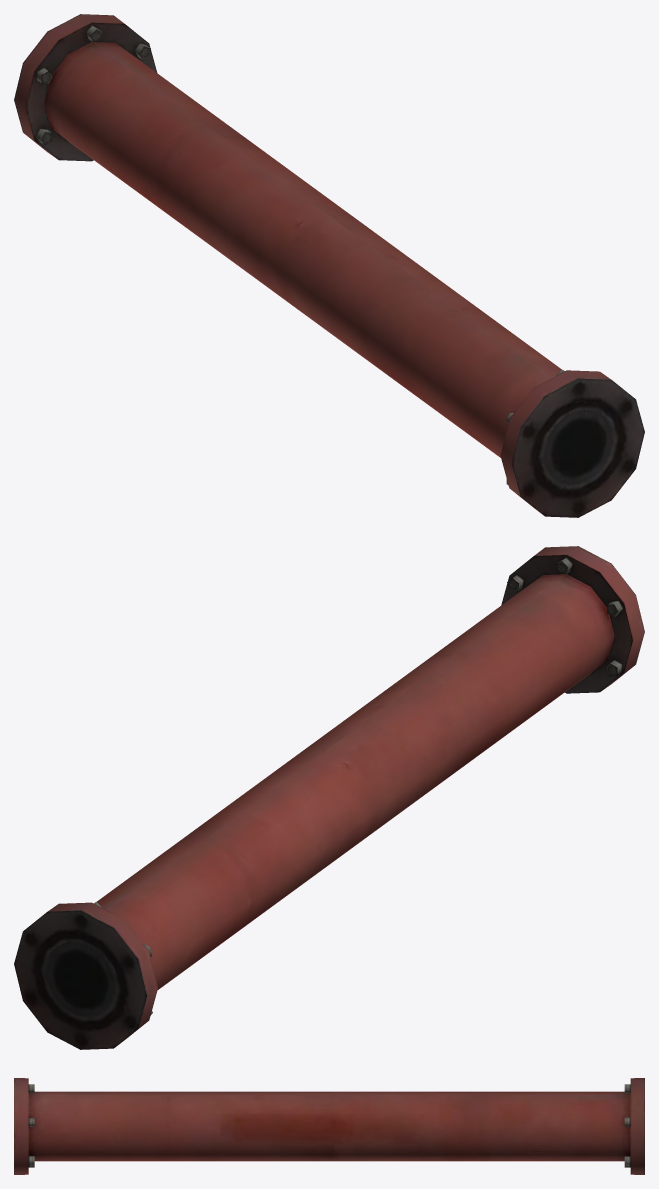
3 views of the same model, one above another, from view 1: azimuth 30°, elevation 25°; view 2: azimuth 150°, elevation 25°; view 3: azimuth 270°, elevation 25° (orthographic). The views are drawn at different scales.
Parts seen in each view (by area): view 1: body0_model0_lod0_mesh0; view 2: body0_model0_lod0_mesh0; view 3: body0_model0_lod0_mesh0.
Part boxes in pixels (x1=…): body0_model0_lod0_mesh0: x1=14, y1=14, x2=644, y2=517; body0_model0_lod0_mesh0: x1=14, y1=546, x2=644, y2=1049; body0_model0_lod0_mesh0: x1=14, y1=1078, x2=644, y2=1174.
Size of the model in its own units: 39.58 by 39.58 by 256.
1 material, 1 textured.
